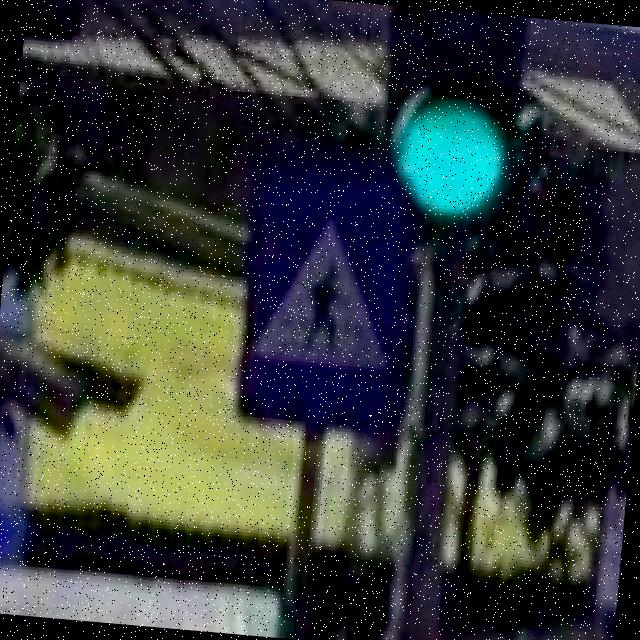Przejscie dla pieszych: (230, 158, 436, 440)
